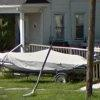Boat: (2, 38, 98, 88)
